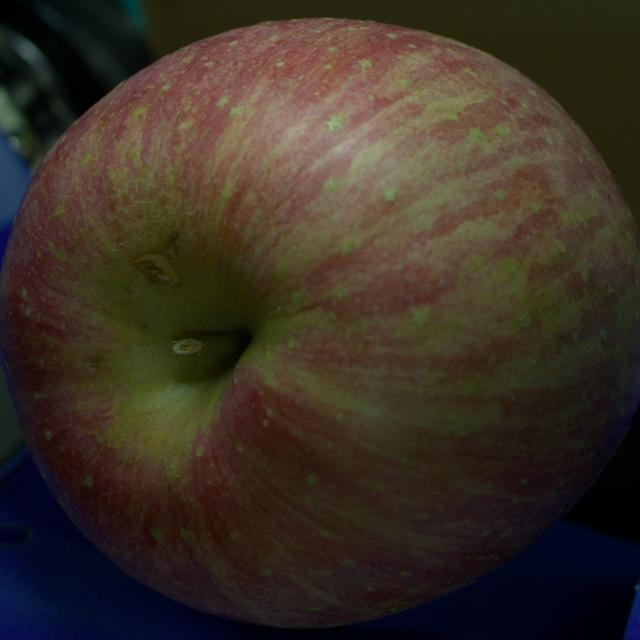apple: (0, 19, 639, 627)
scratch: (133, 254, 179, 285)
